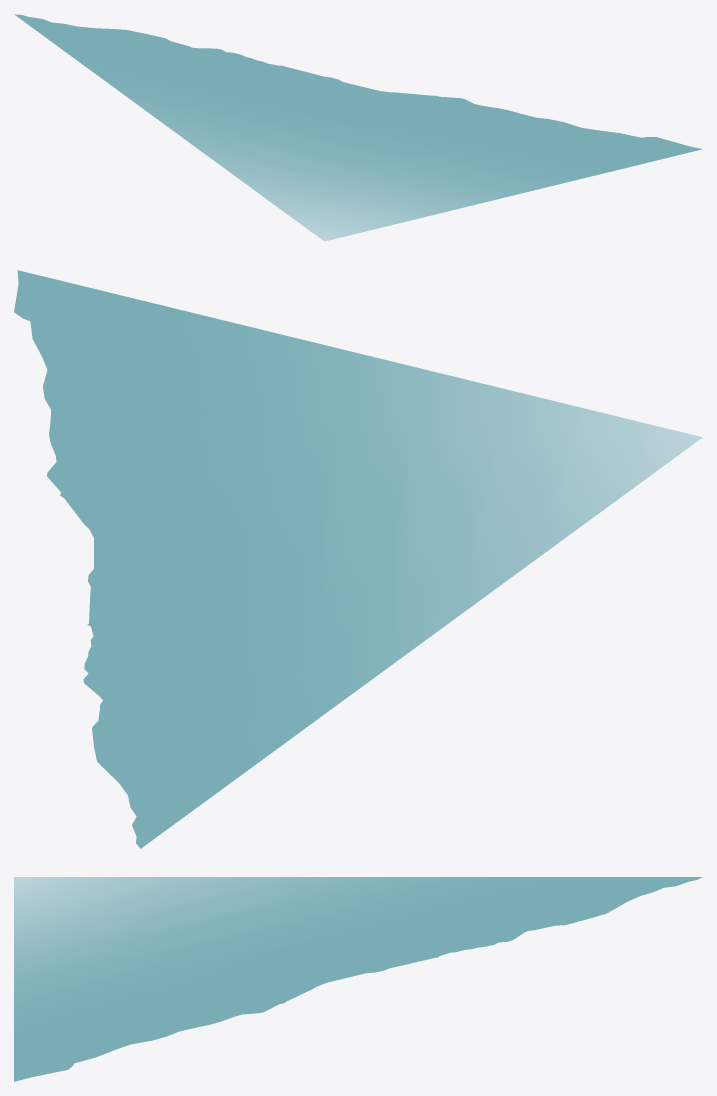
The picture shows the model from 3 angles, top to bottom: view 1: azimuth 30°, elevation 25°; view 2: azimuth 150°, elevation 25°; view 3: azimuth 270°, elevation 25°; orthographic projection. The views are drawn at different scales.
Parts seen in each view (by area): view 1: city; view 2: city; view 3: city.
Part boxes in pixels (<box>): city: <box>14,14,702,241</box>; city: <box>14,270,702,848</box>; city: <box>14,877,702,1081</box>.
Size of the model in its own units: 317 by 0 by 450.
